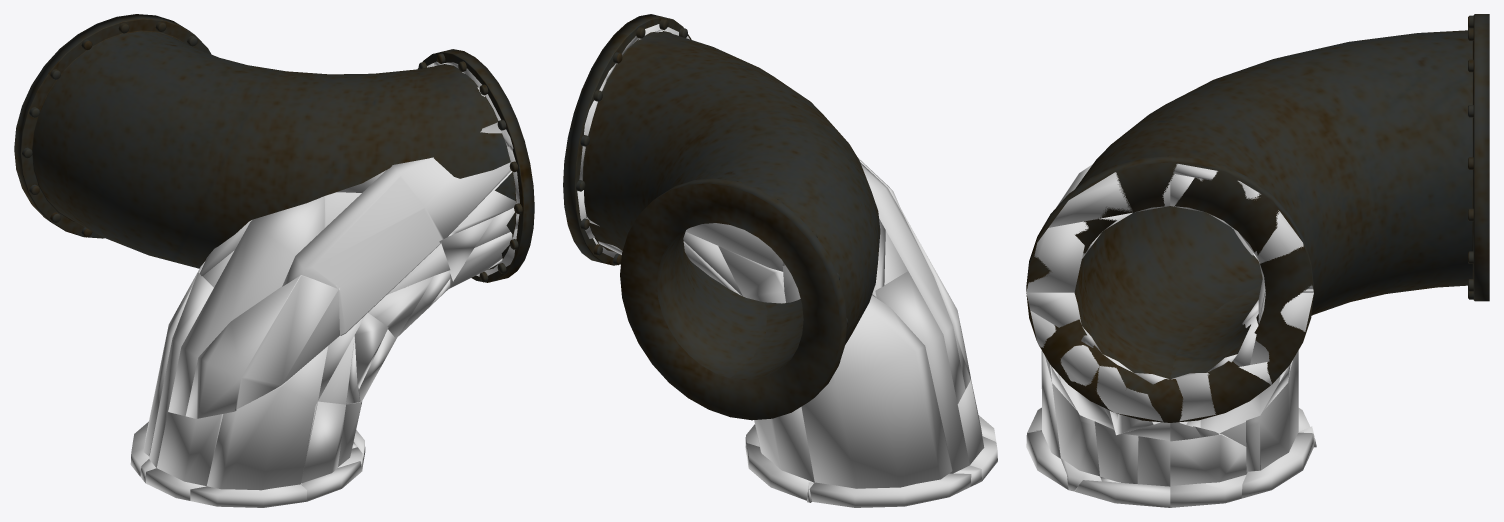
The model's file is SM_Pipes_Small_Elbow.fbx.
The picture shows the model from 3 angles, left to right: view 1: azimuth 30°, elevation 25°; view 2: azimuth 150°, elevation 25°; view 3: azimuth 270°, elevation 25°; orthographic projection. The views are drawn at different scales.
Parts seen in each view (by area): view 1: SM_Pipes_Small_Elbow, SM_Pipes_Small_Elbow_ConvexHulls; view 2: SM_Pipes_Small_Elbow, SM_Pipes_Small_Elbow_ConvexHulls; view 3: SM_Pipes_Small_Elbow, SM_Pipes_Small_Elbow_ConvexHulls.
Part boxes in pixels (<box>): SM_Pipes_Small_Elbow: <box>14,14,534,282</box>; SM_Pipes_Small_Elbow_ConvexHulls: <box>130,61,519,507</box>; SM_Pipes_Small_Elbow: <box>563,14,880,420</box>; SM_Pipes_Small_Elbow_ConvexHulls: <box>577,24,997,507</box>; SM_Pipes_Small_Elbow: <box>1026,14,1489,422</box>; SM_Pipes_Small_Elbow_ConvexHulls: <box>1026,164,1316,507</box>.
Size of the model in its own units: 0.3626 by 0.3626 by 0.3626.
